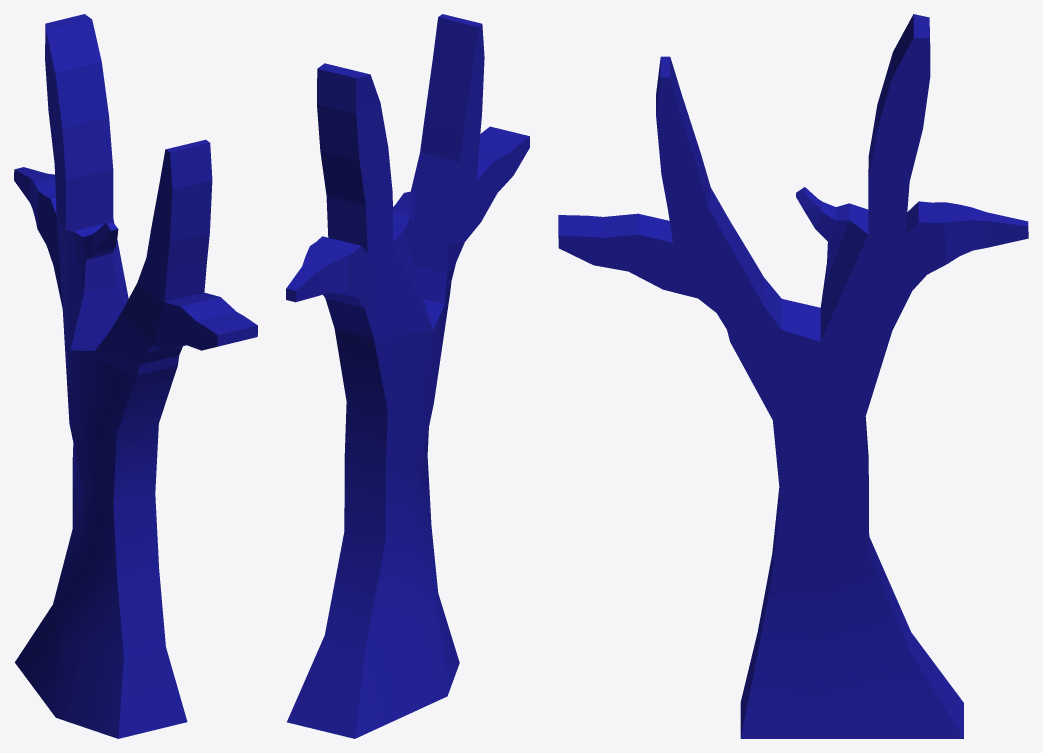
Rendered from Arbol1.FBX.
3 views of the same model, side by side, from view 1: azimuth 30°, elevation 25°; view 2: azimuth 150°, elevation 25°; view 3: azimuth 270°, elevation 25° (orthographic). The views are drawn at different scales.
Visible parts, largest first — view 1: Box001; view 2: Box001; view 3: Box001.
Boxes of the visible parts, x1,y1,x2,y2 form: Box001: (14,14,257,738); Box001: (286,14,529,738); Box001: (558,14,1028,738).
Size of the model in its own units: 3.53 by 23.11 by 14.2.
